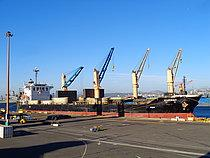Ship: (15, 43, 207, 123)
